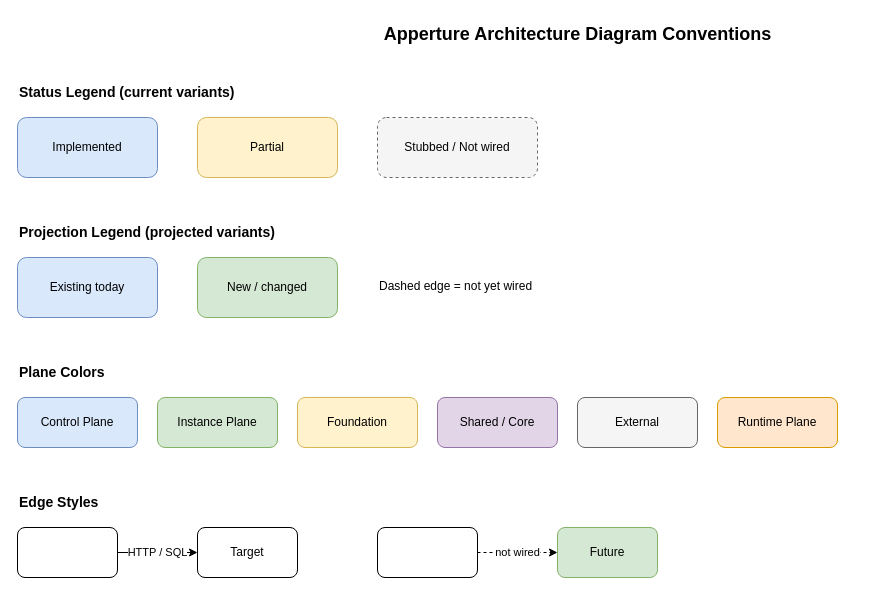
Image size: 895x595. Some labels were removed from this diagram. The centre of each missing label's shape, as x and y in pixels:
Source: [427,552]
Structural: [67,552]
